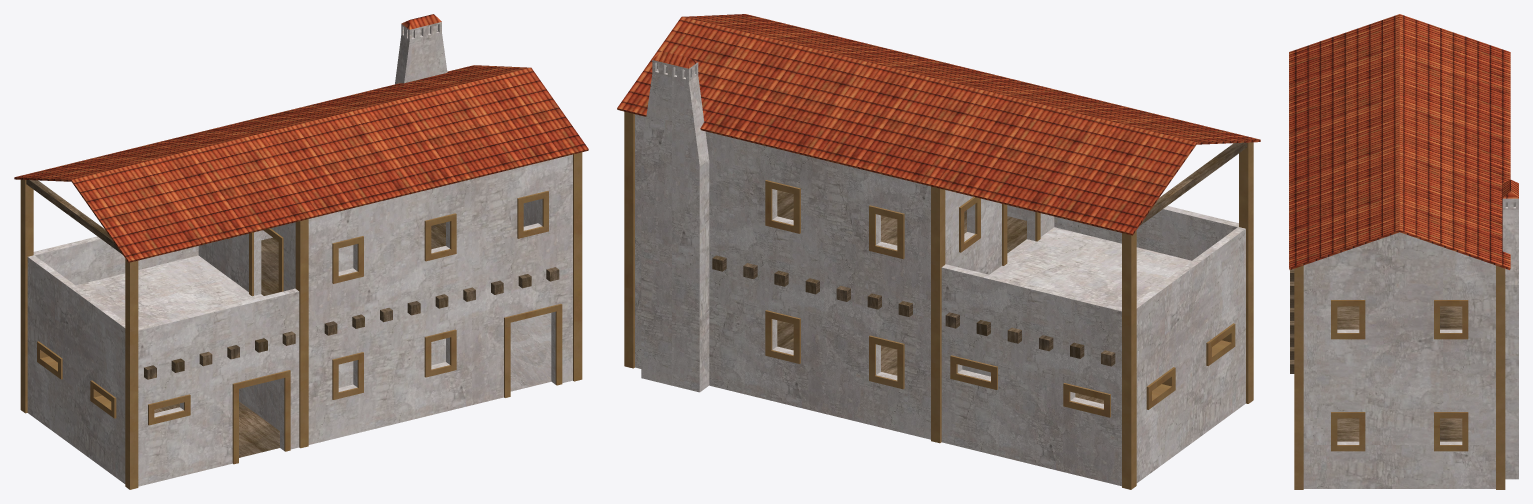
File: house_c.glb
3 renders of one model, left to right at view 1: azimuth 30°, elevation 25°; view 2: azimuth 150°, elevation 25°; view 3: azimuth 270°, elevation 25°, orthographic. The views are drawn at different scales.
Visible parts, largest first — view 1: prefab; view 2: prefab; view 3: prefab.
Boxes of the visible parts, x1,y1,x2,y2 form: prefab: (14, 14, 588, 489); prefab: (617, 14, 1260, 489); prefab: (1289, 14, 1518, 489).
Size of the model in its own units: 15.15 by 9.2 by 6.8.
4 materials, 4 textured.
